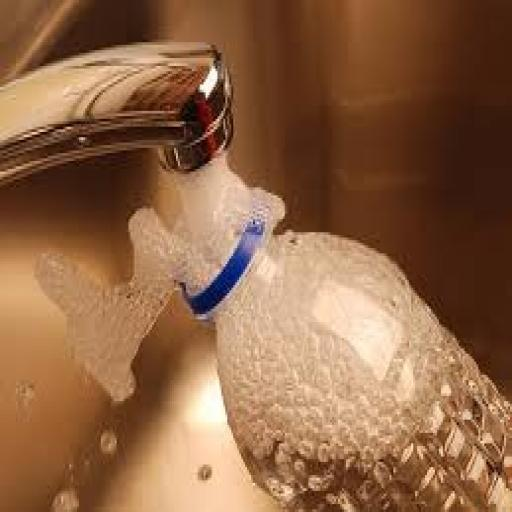bottle: (162, 150, 512, 512)
